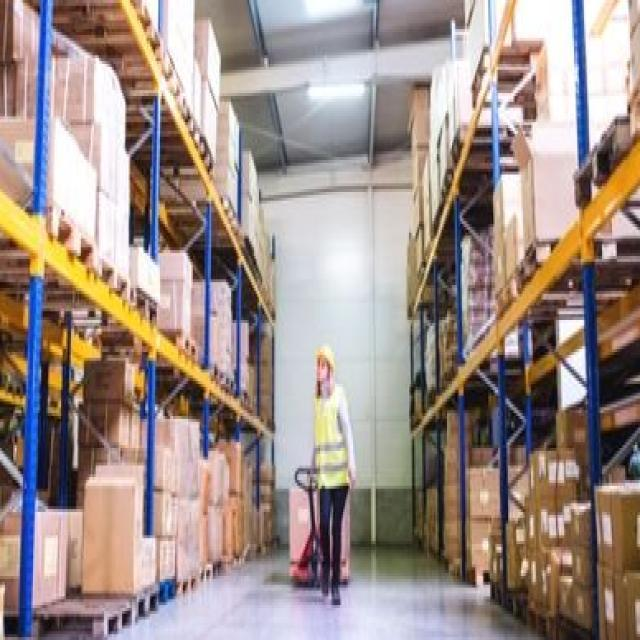boots: (319, 558, 345, 607)
helmet: (314, 341, 336, 375)
vest: (310, 380, 352, 490)
